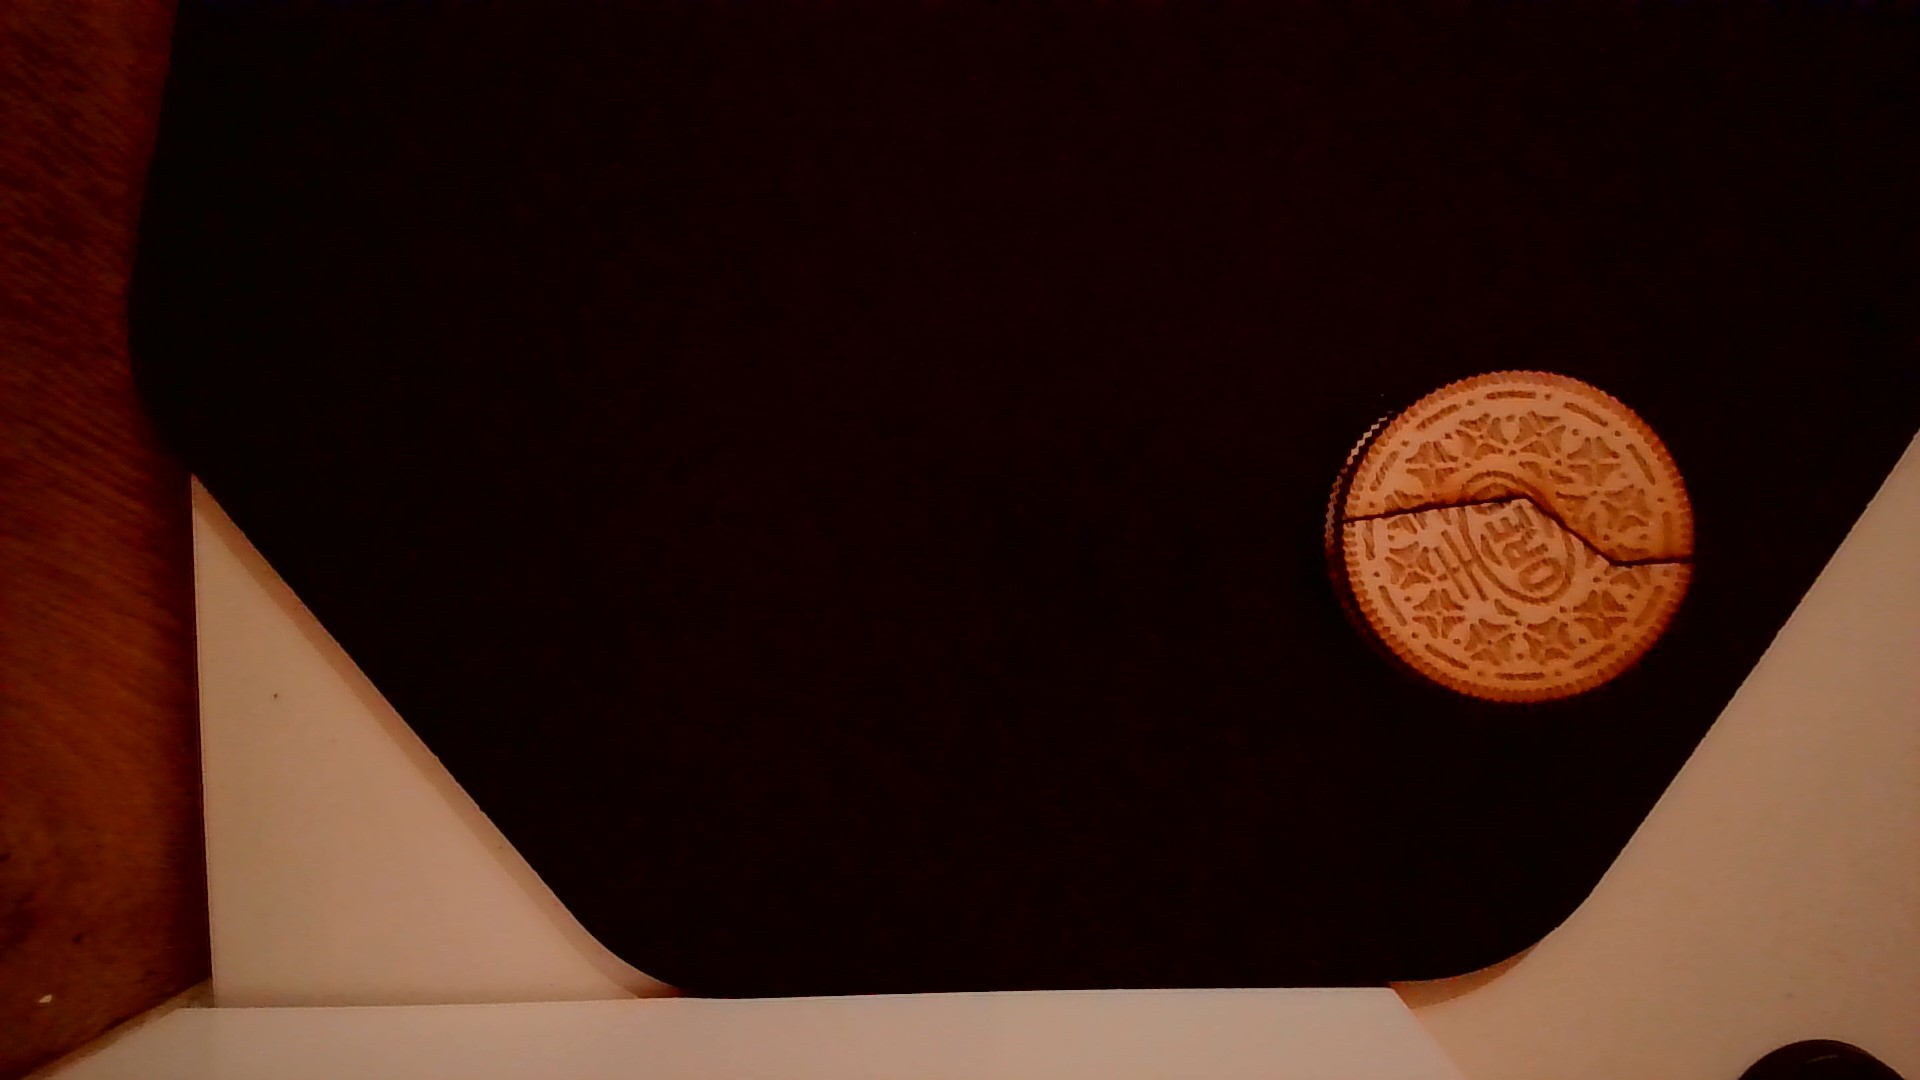Fissure: (1323, 485, 1701, 574)
Oréo: (1324, 360, 1701, 712)
